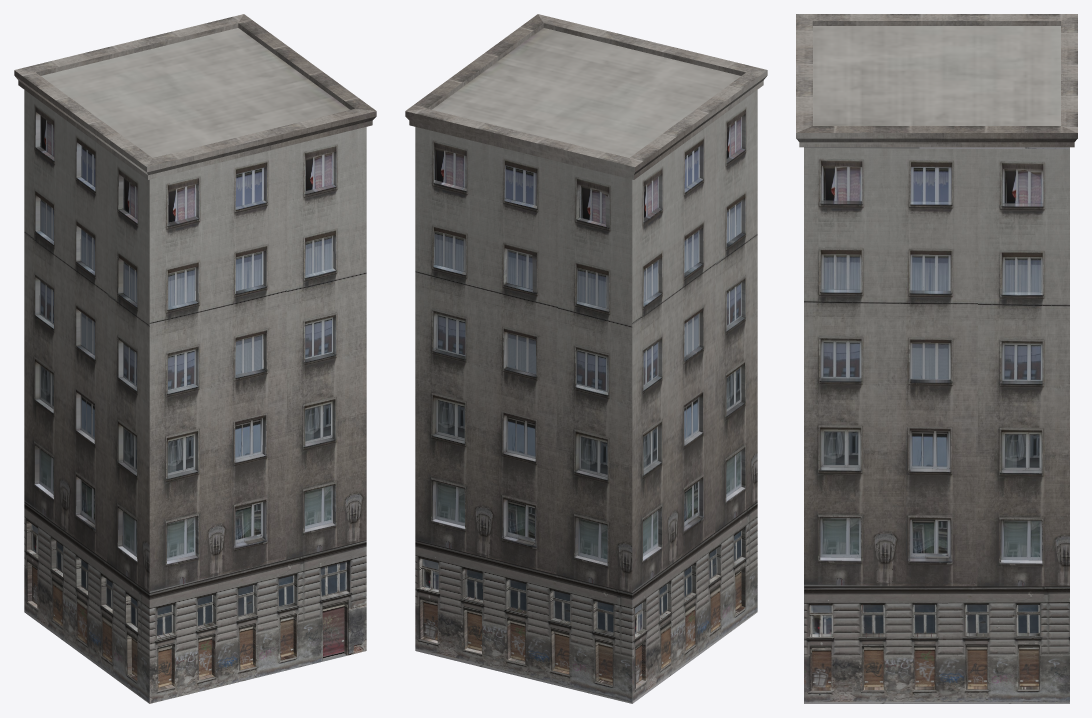
File: edificioB.obj
The picture shows the model from 3 angles, left to right: view 1: azimuth 30°, elevation 25°; view 2: azimuth 150°, elevation 25°; view 3: azimuth 270°, elevation 25°; orthographic projection. The views are drawn at different scales.
Parts seen in each view (by area): view 1: Material_001-material; view 2: Material_001-material; view 3: Material_001-material.
Part boxes in pixels (x1,y1,x2,y2): Material_001-material: (14,14,376,703); Material_001-material: (405,14,767,703); Material_001-material: (796,14,1077,703).
Size of the model in its own units: 9.25 by 20.79 by 9.25.
1 material, 1 textured.
